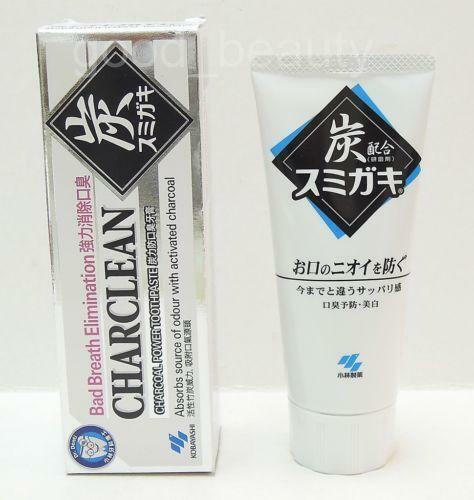toothpaste: (244, 46, 446, 474)
